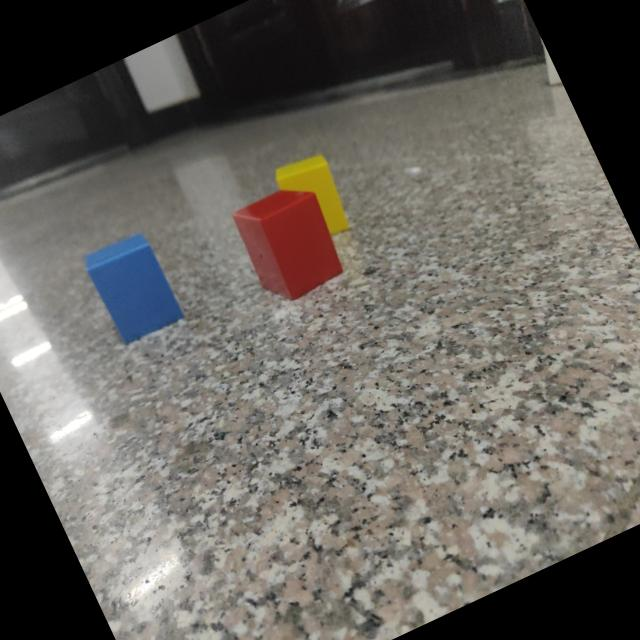blue: (85, 232, 184, 346)
red: (234, 190, 345, 302)
yellow: (275, 154, 351, 235)
